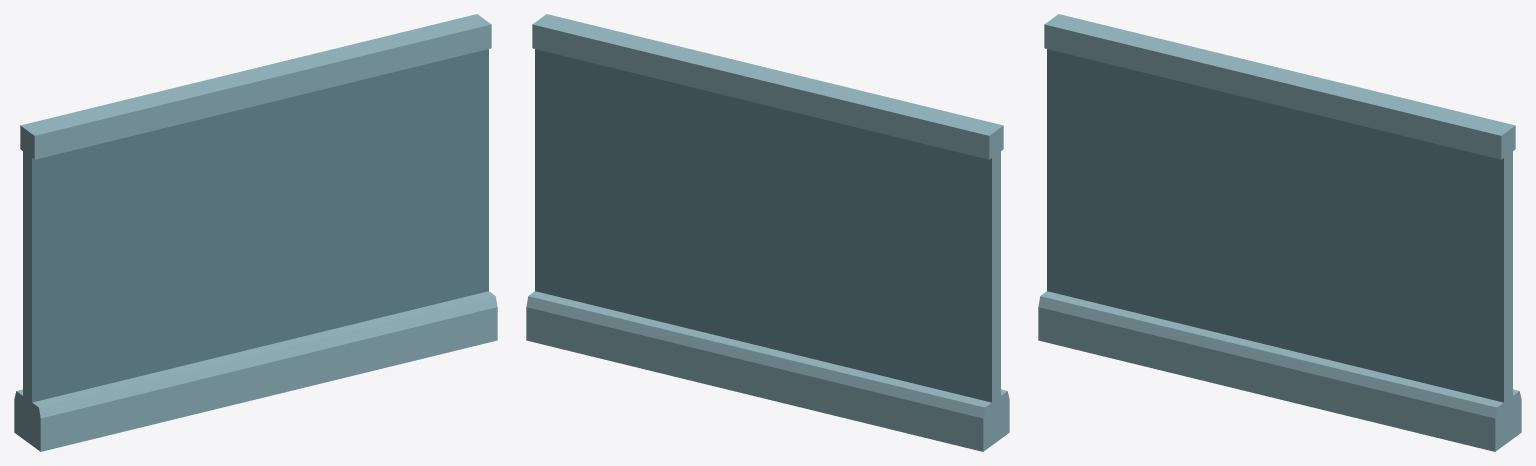
File: stoneWall.fbx
3 renders of one model, left to right at view 1: azimuth 30°, elevation 25°; view 2: azimuth 150°, elevation 25°; view 3: azimuth 330°, elevation 25°, orthographic.
Parts seen in each view (by area): view 1: stoneWall; view 2: stoneWall; view 3: stoneWall.
Boxes of the visible parts, <box> form: stoneWall: <box>14,14,497,451</box>; stoneWall: <box>526,14,1009,451</box>; stoneWall: <box>1038,14,1521,451</box>.
Size of the model in its own units: 10 by 6.52 by 1.
